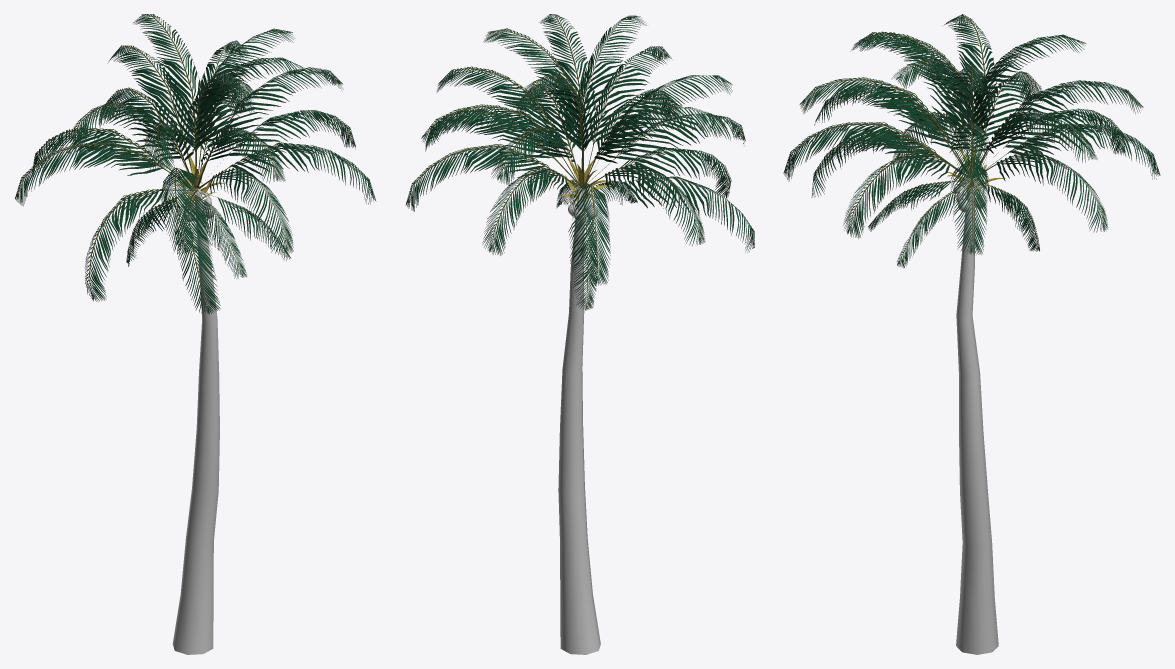
File: coconut_palm.obj
3 views of the same model, side by side, from view 1: azimuth 30°, elevation 25°; view 2: azimuth 150°, elevation 25°; view 3: azimuth 270°, elevation 25° (orthographic). The views are drawn at different scales.
Visible parts, largest first — view 1: leaves_Mesh.001, stem_Mesh; view 2: leaves_Mesh.001, stem_Mesh; view 3: leaves_Mesh.001, stem_Mesh.
Part boxes in pixels (<box>): leaves_Mesh.001: <box>15,14,376,314</box>; stem_Mesh: <box>172,186,219,654</box>; leaves_Mesh.001: <box>405,14,754,310</box>; stem_Mesh: <box>558,186,600,654</box>; leaves_Mesh.001: <box>783,14,1160,268</box>; stem_Mesh: <box>956,177,998,654</box>.
Bounding box in the file's own units: 15.57 × 28.9 × 16.13.
